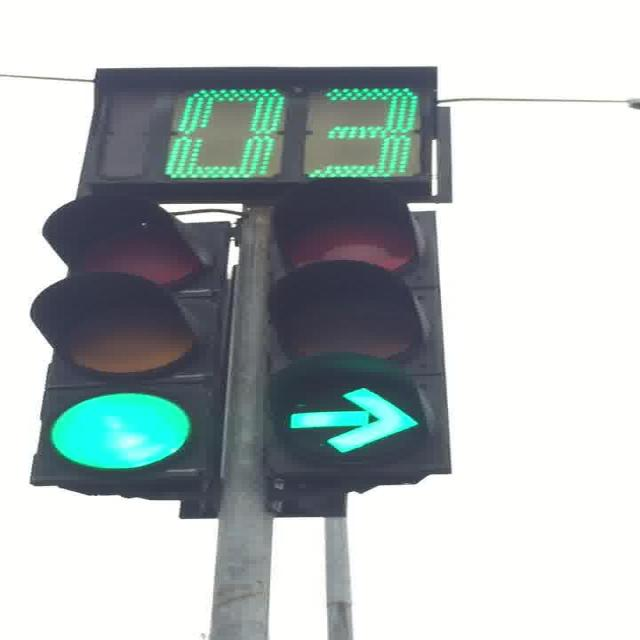traffic light: (29, 196, 240, 512), (257, 200, 456, 519), (30, 196, 206, 376)
